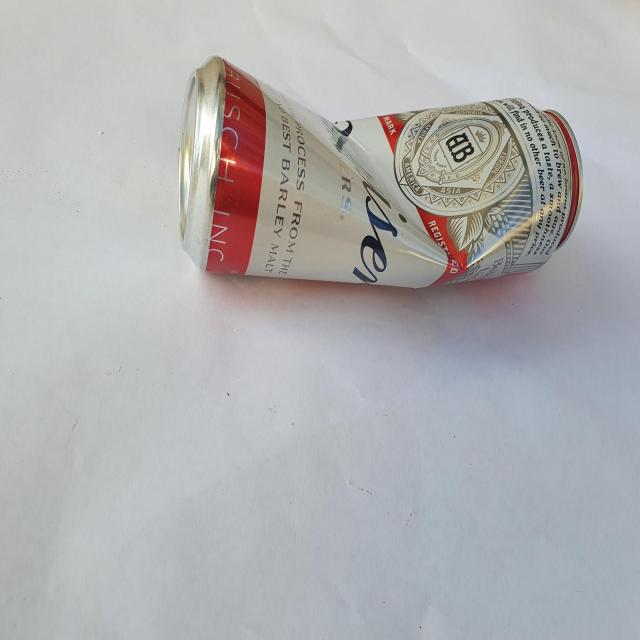can: (179, 56, 584, 287)
